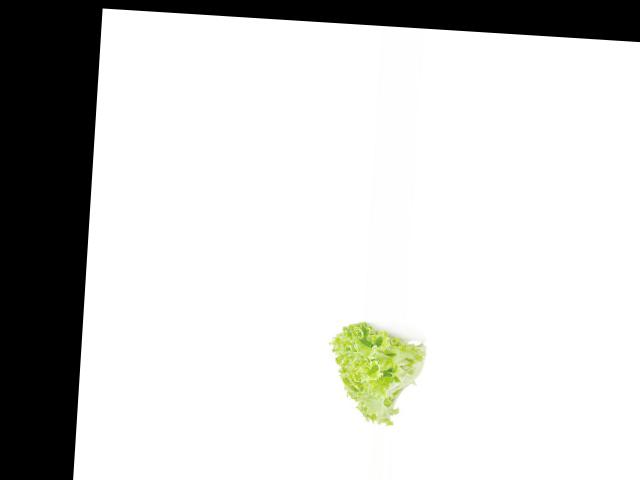lettuce: (319, 319, 434, 431)
